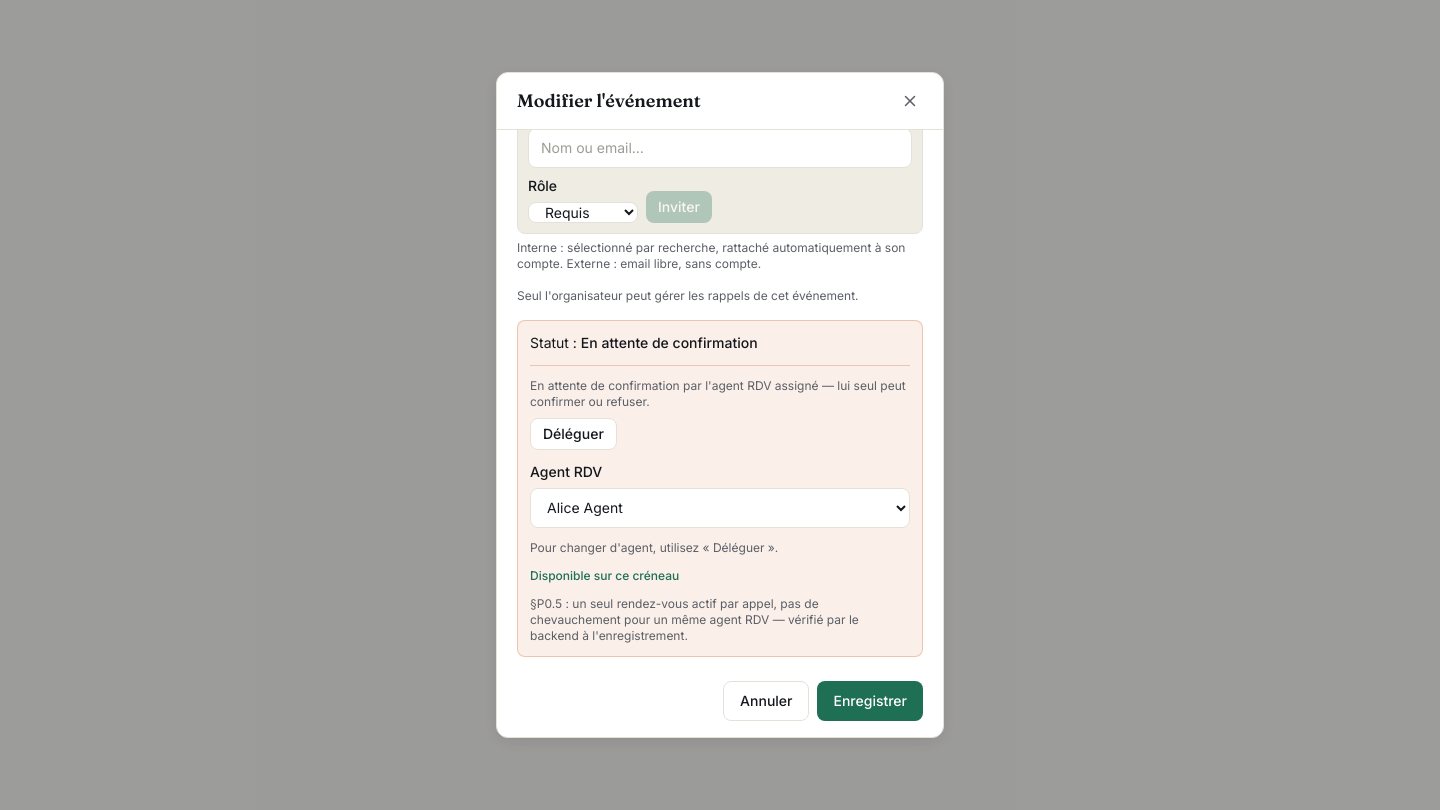
Test: délégation RDV — EventPanel › erreur serveur (ex. ping-pong) : message affiché, panneau conservé
(page scrolled)
Click the button "Déléguer" at (573, 434), box [530,418,617,450]
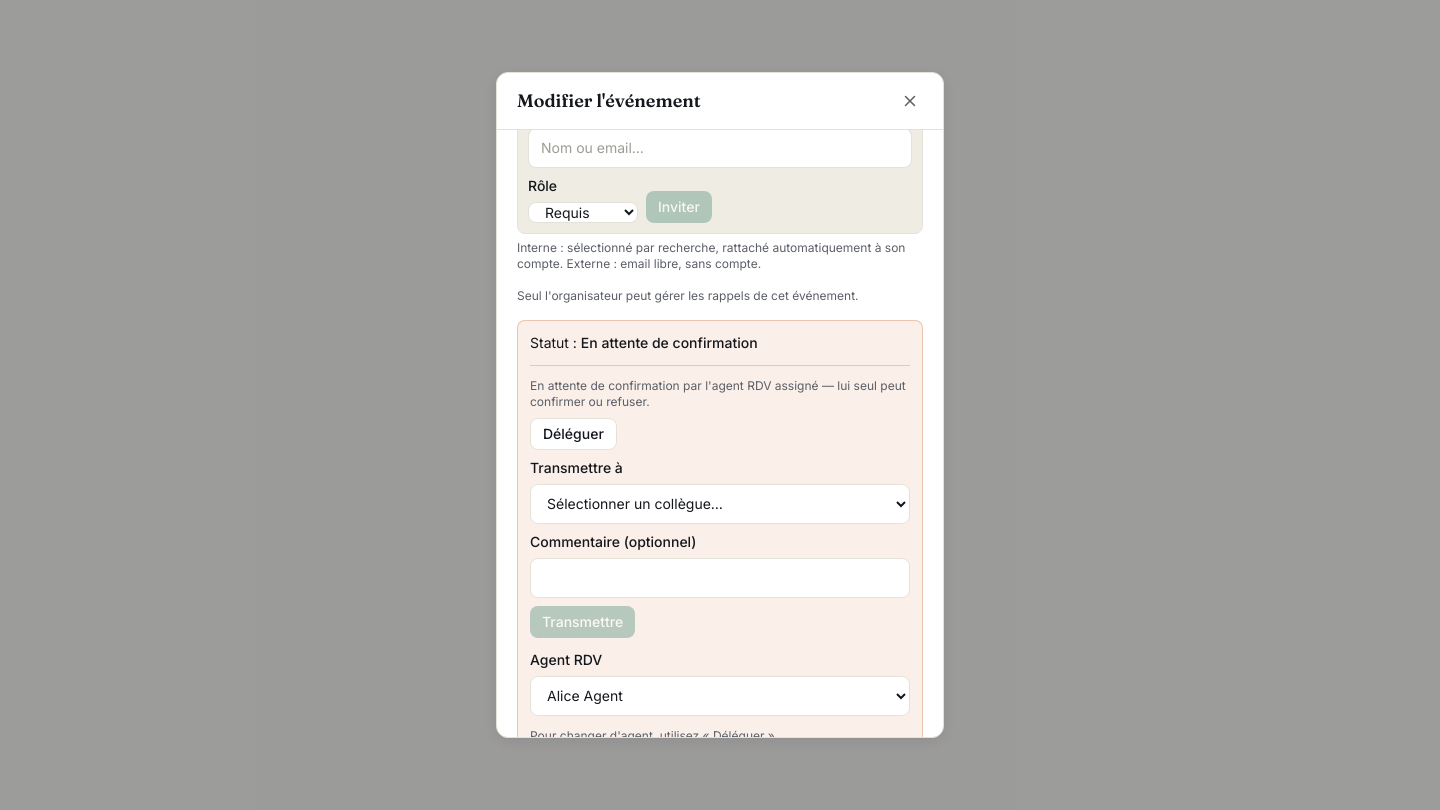
Select "Chloé Agent" in the dropdown labelled "Transmettre à" at (720, 504), box [530,484,910,524]
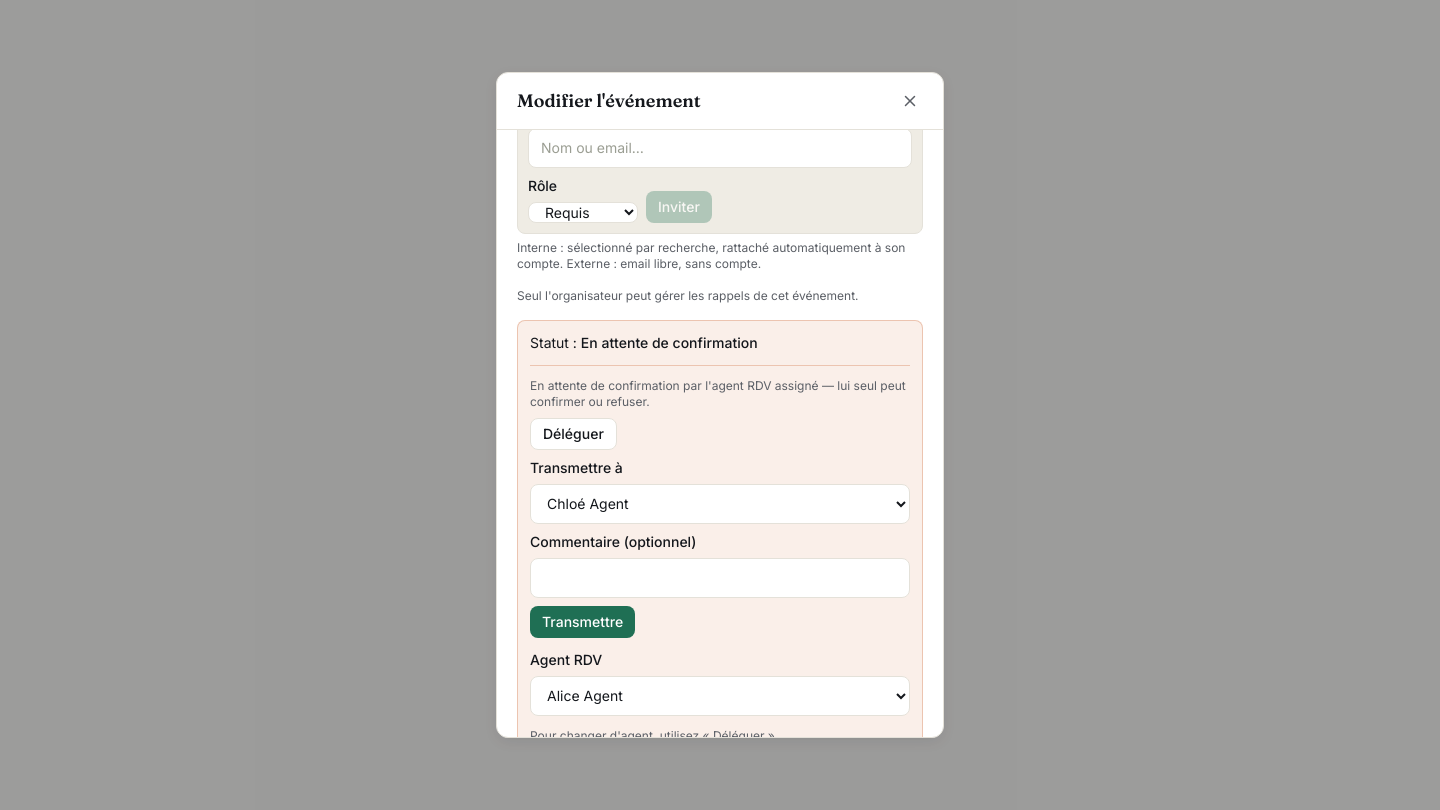
Click the button "Transmettre" at (583, 622), box [530,606,635,638]
(page scrolled)
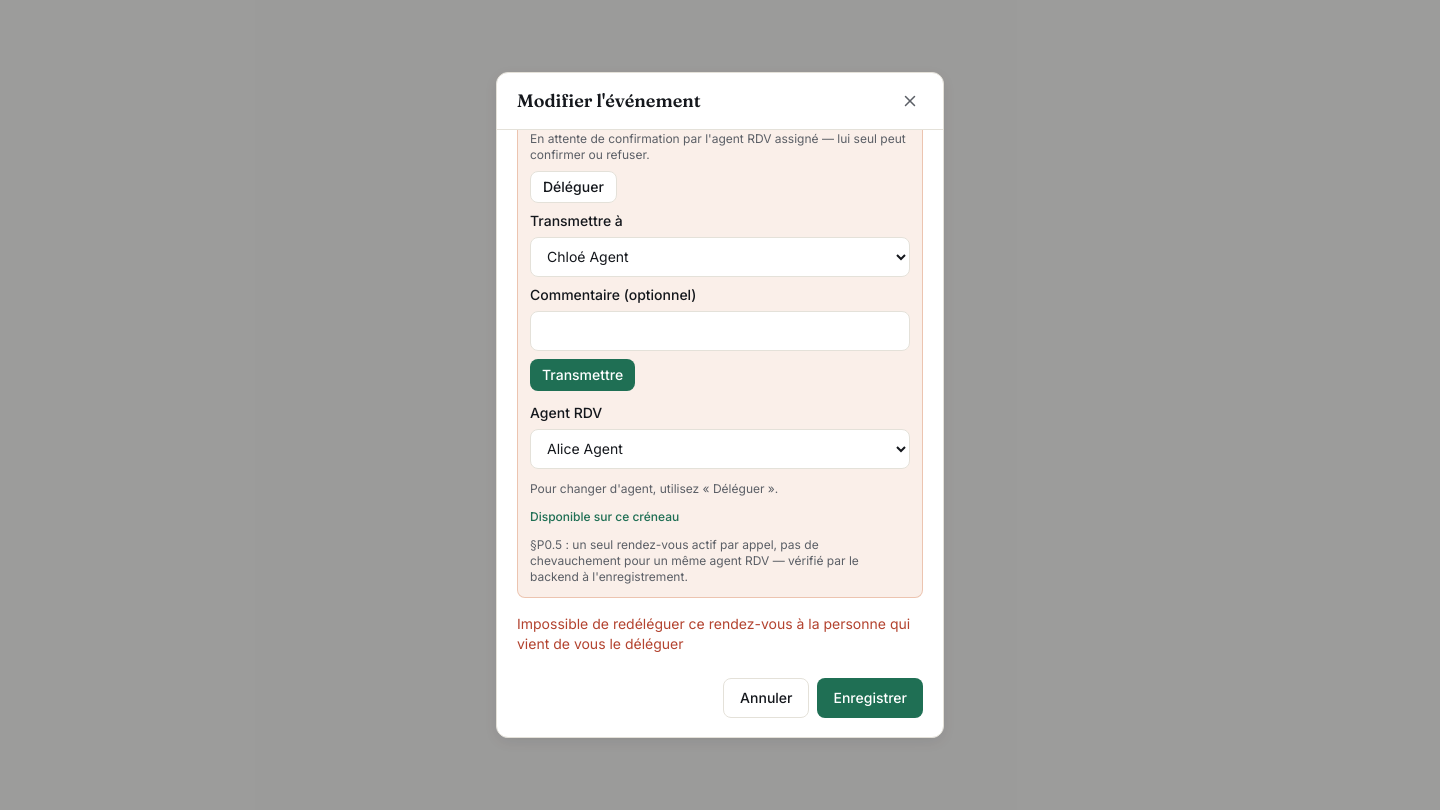
Check: the text "personne qui vient de vous le déléguer" is shown, box [517,615,910,652]
